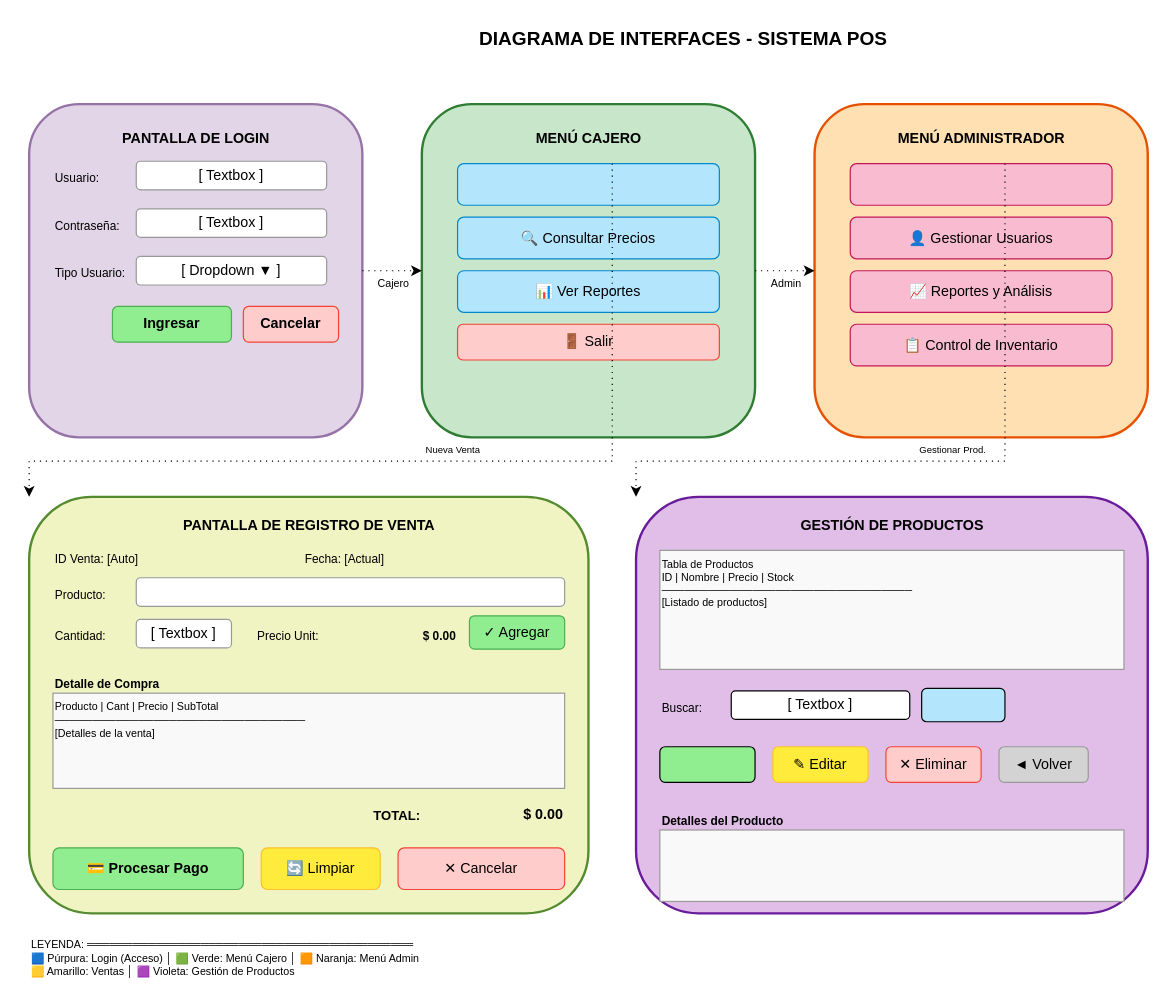
Some shapes in this 1170 by 1004 pixel diagram are drawn without their labels. Each missing label, with the centre of its shape:
"[ Dropdown - Seleccionar ]" belongs at [350,591].
"ID: [ ] Nombre: [ ] Precio: [ ] Stock: [ ] Descripción: [ Área de texto ]" belongs at [891,865].
"➕ Nueva Venta" belongs at [587,183].
"➕ Nuevo" belongs at [707,764].
"📦 Gestionar Productos" belongs at [980,183].
"🔍 Buscar" belongs at [962,704].
